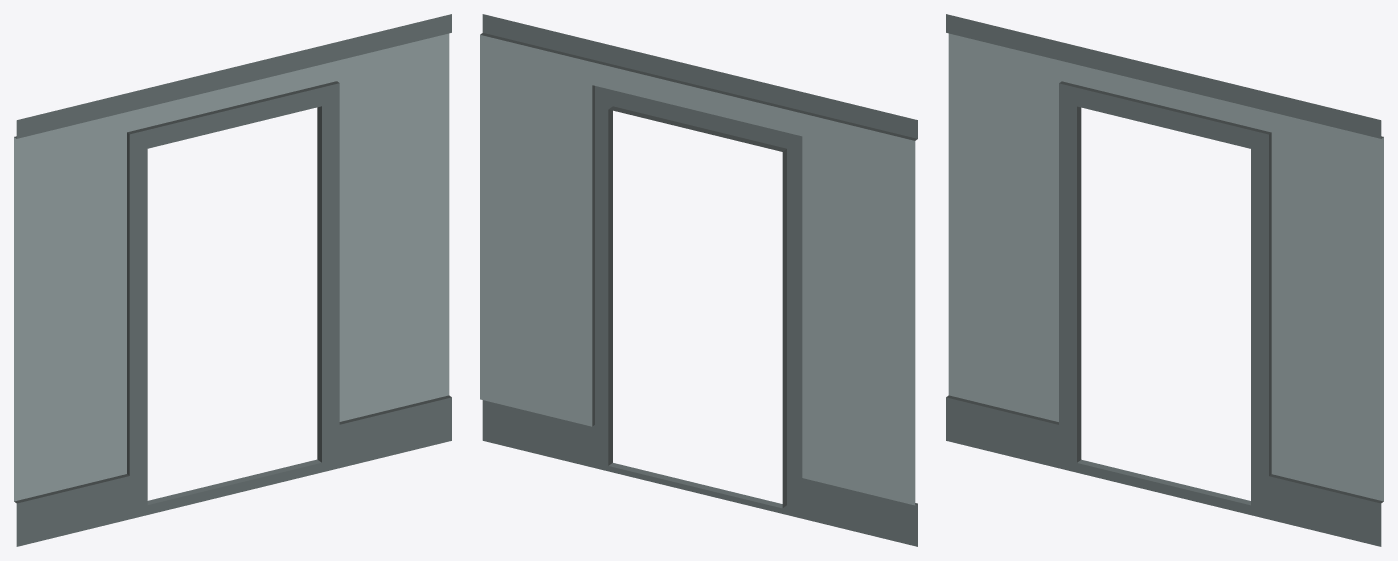
Rendered from WallDoorSmall3.glb.
3 views of the same model, side by side, from view 1: azimuth 30°, elevation 25°; view 2: azimuth 150°, elevation 25°; view 3: azimuth 330°, elevation 25° (orthographic).
Parts seen in each view (by area): view 1: SI_Env_Wall_Door_Small_03; view 2: SI_Env_Wall_Door_Small_03; view 3: SI_Env_Wall_Door_Small_03.
Part boxes in pixels (<box>): SI_Env_Wall_Door_Small_03: <box>14,14,451,546</box>; SI_Env_Wall_Door_Small_03: <box>480,14,917,546</box>; SI_Env_Wall_Door_Small_03: <box>946,14,1383,546</box>.
Bounding box in the file's own units: 0.05 × 0.0469 × 0.000885.
Materials: 1 (1 with a texture image).
